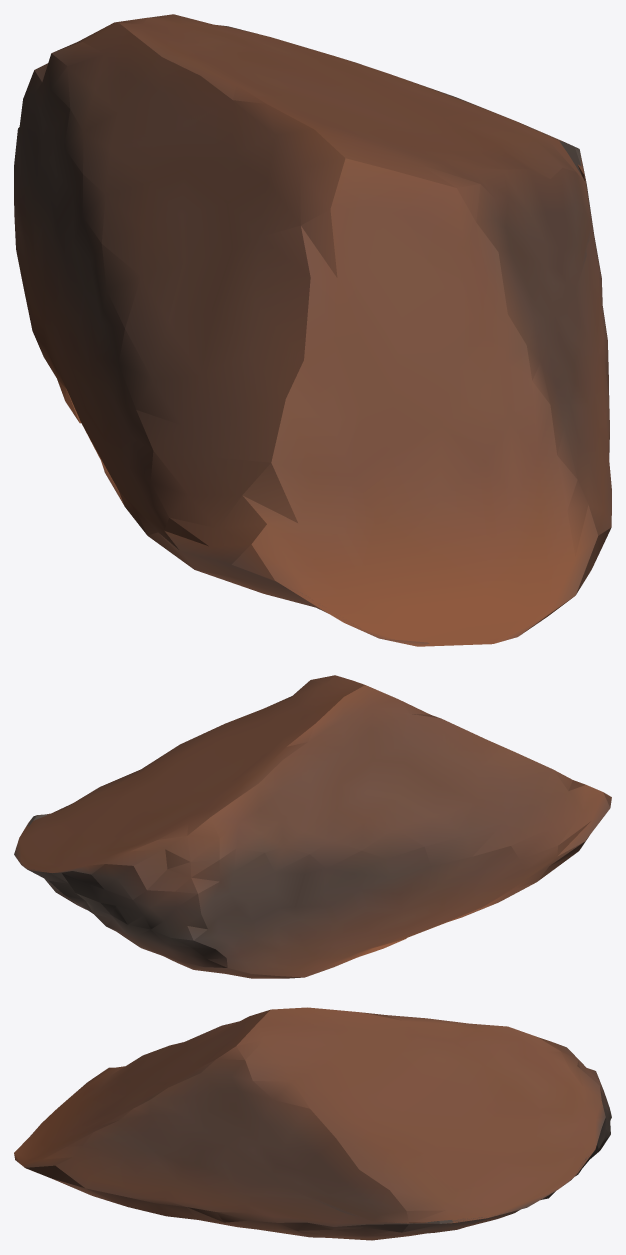
The model's file is rock_large_02.glb.
The picture shows the model from 3 angles, top to bottom: view 1: azimuth 30°, elevation 25°; view 2: azimuth 150°, elevation 25°; view 3: azimuth 270°, elevation 25°; orthographic projection. The views are drawn at different scales.
Visible parts, largest first — view 1: rock; view 2: rock; view 3: rock.
Part boxes in pixels (x1,y1,x2,y2): rock: (14, 14, 611, 646); rock: (14, 675, 611, 978); rock: (14, 1007, 611, 1240).
Size of the model in its own units: 1.95 by 0.8702 by 2.8.
